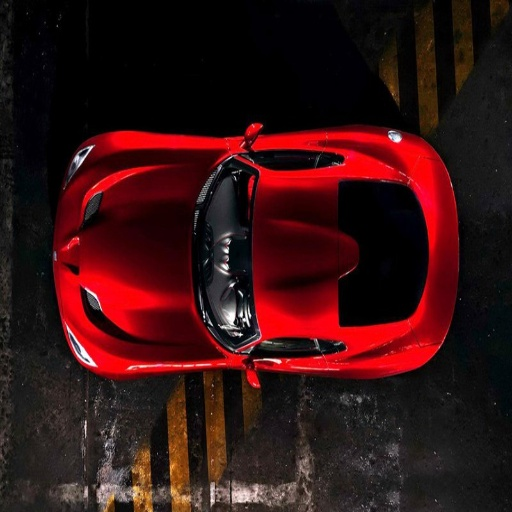front_bumper: (319, 295, 444, 375)
trunk: (69, 202, 186, 317), (273, 203, 358, 285)
